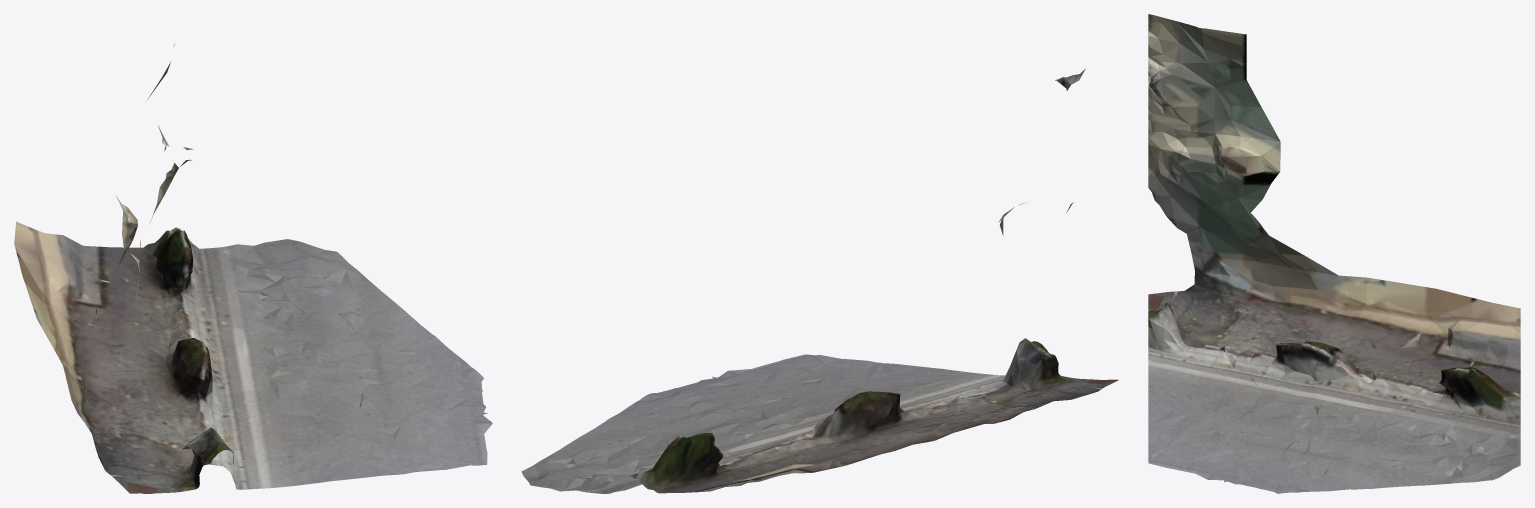
3 views of the same model, side by side, from view 1: azimuth 30°, elevation 25°; view 2: azimuth 150°, elevation 25°; view 3: azimuth 270°, elevation 25° (orthographic). The views are drawn at different scales.
Bounding box in the file's own units: 6.7 × 6.7 × 6.7.
Materials: 3 (3 with a texture image).
